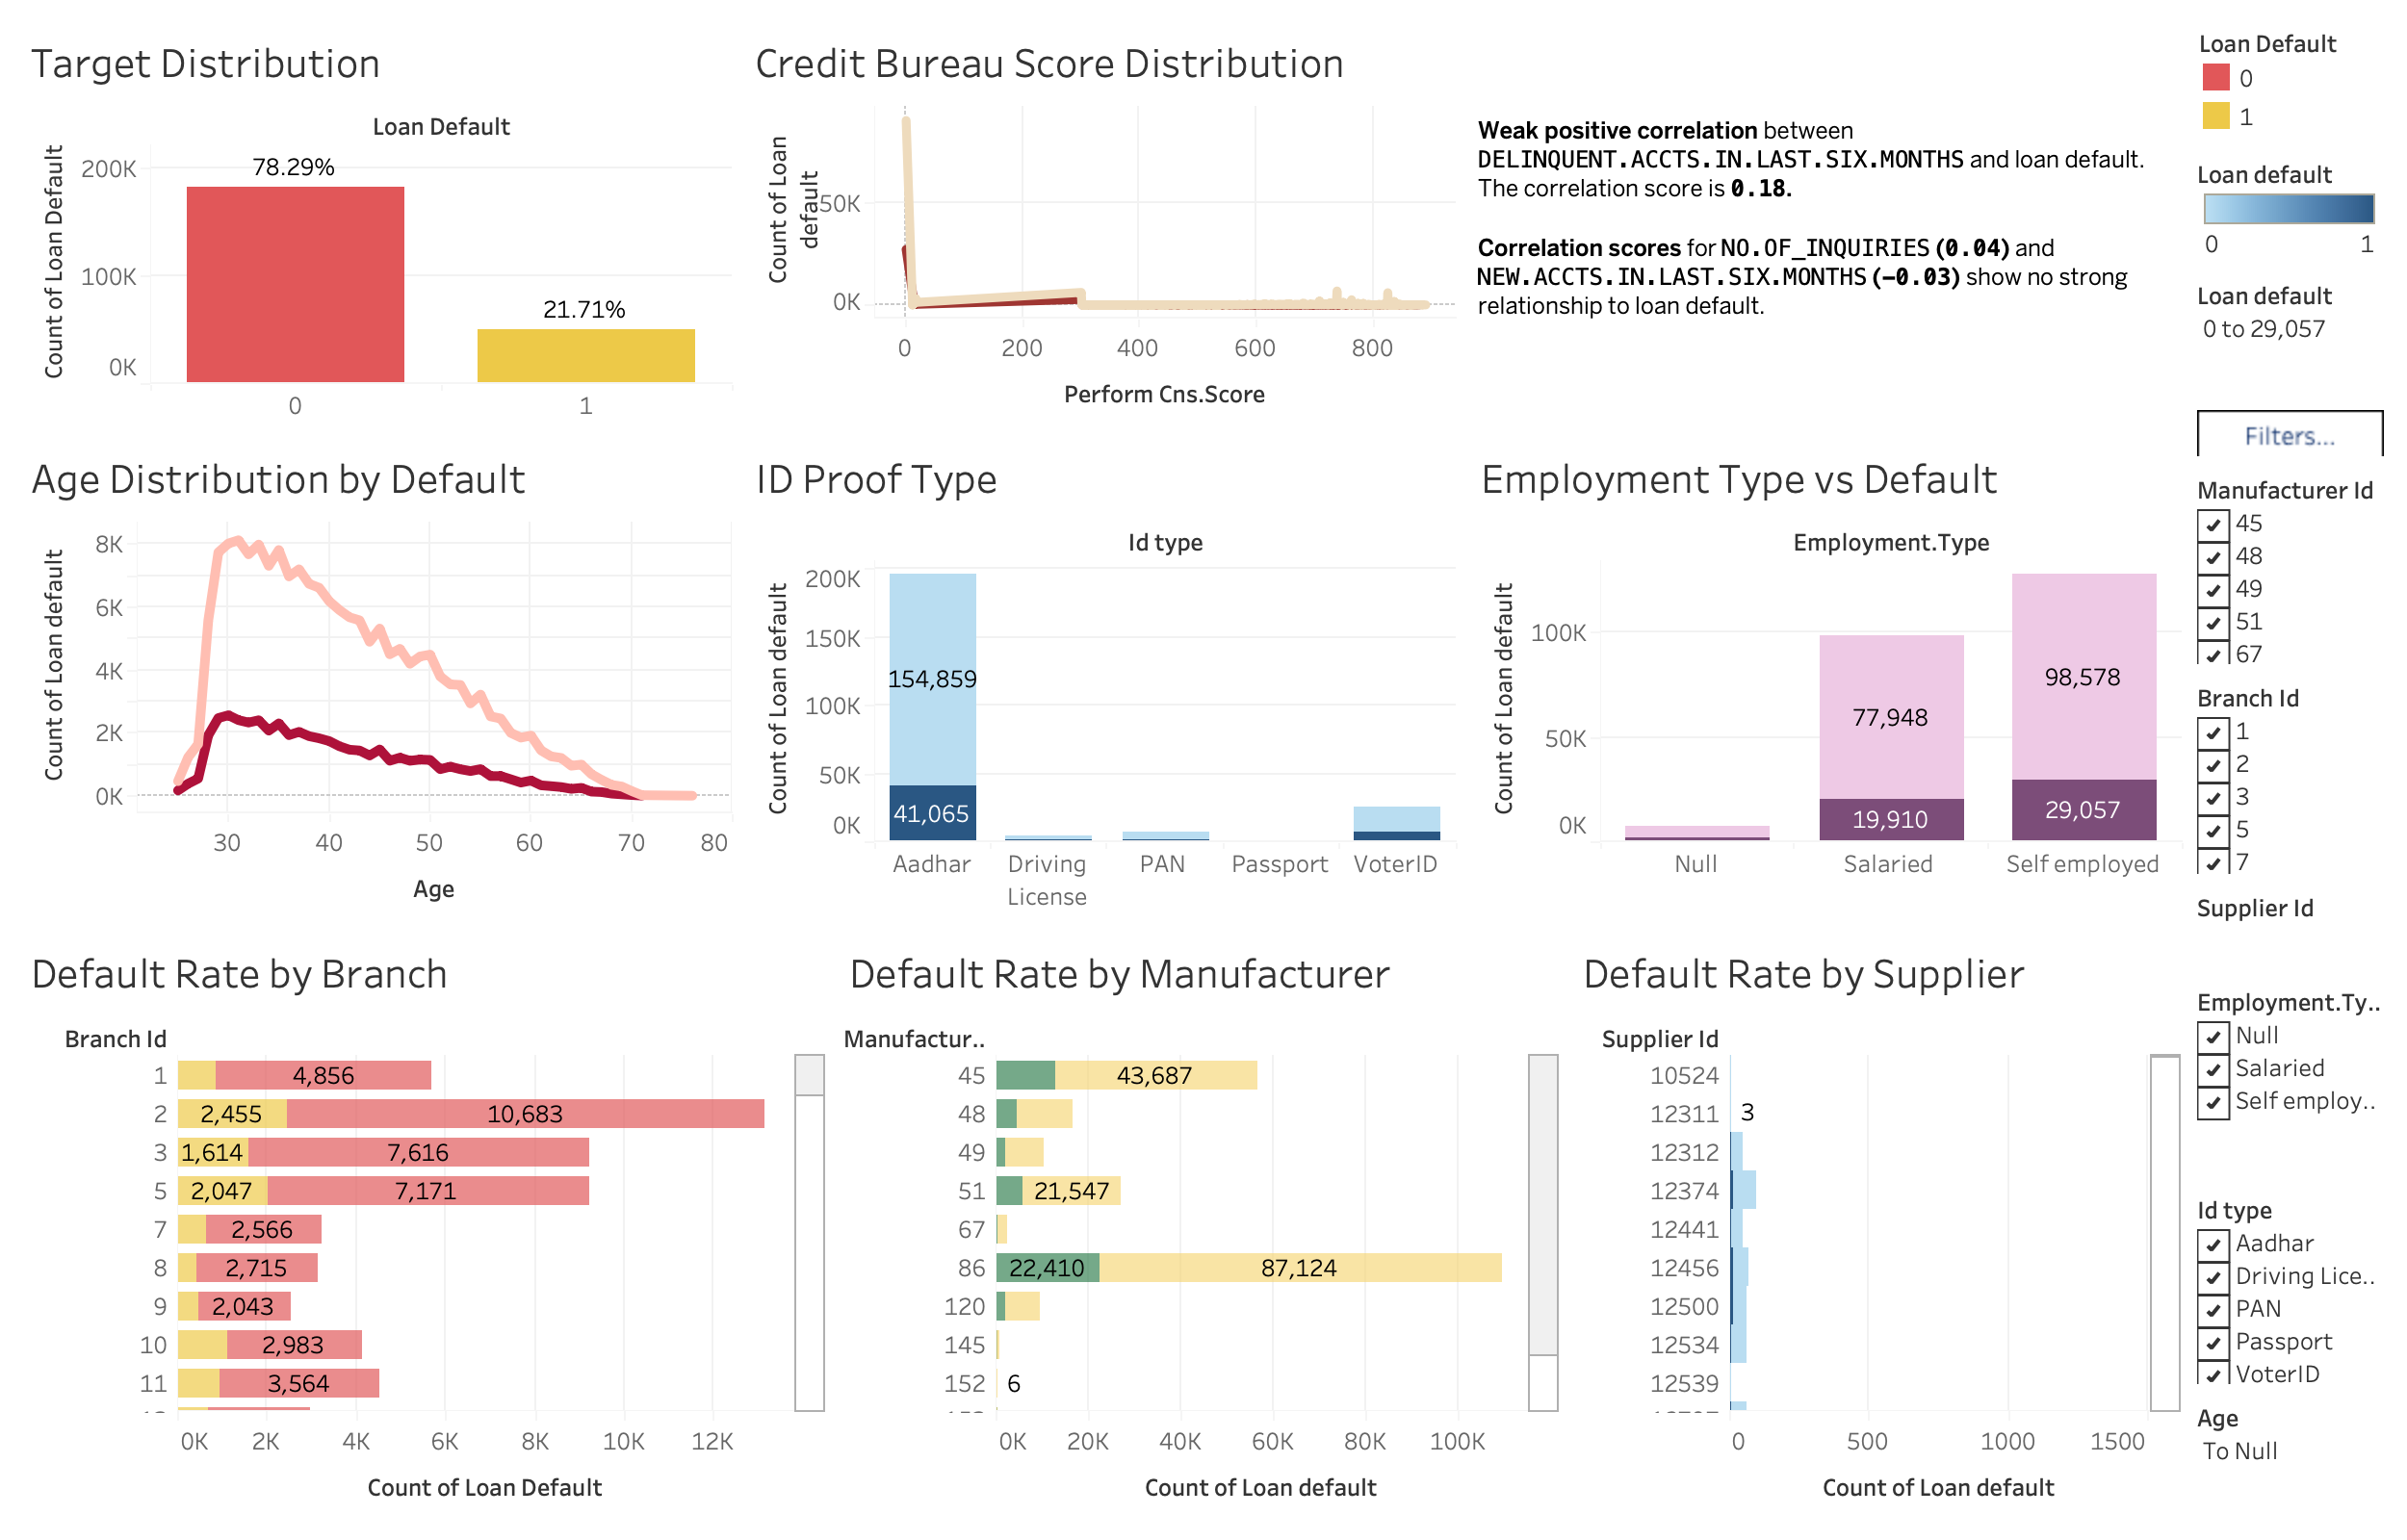

Layout of this report page (visuals, bound fields, positions):
{"tool":"tableau","page":{"name":"The Executive Summary ","canvas":[1250,800],"ordinal":1},"visuals":[{"type":"worksheet","title":"Target Distribution","mark":"Automatic","rows":["loan_default"],"cols":["loan_default"],"box":[8,8,376.3,216]},{"type":"worksheet","title":"Credit Bureau Score Distribution","mark":"Line","rows":["Calculation_3412602662523293697"],"cols":["PERFORM_CNS.SCORE"],"box":[384.3,8,376.4,216]},{"type":"text","box":[760.6,8,376.4,216]},{"type":"legend","title":"Target Distribution","param":"[federated.1ljrgf00581if515bjikj00tv5dx].[none:loan_default:ok]","box":[1137,8,105,66]},{"type":"legend","title":"Default Rate by Supplier","param":"[federated.1ljrgf00581if515bjikj00tv5dx].[none:Calculation_3412602662523293697:q","box":[1137,74,105,65]},{"type":"filter","title":"Employment Type vs Default","param":"[federated.1ljrgf00581if515bjikj00tv5dx].[sum:Calculation_3412602662523293697:qk","box":[1137,139,105,69]},{"type":"dashboard-object","param":"[com.tableau.addfilters].[0.0.0].[https://extensions.tableauusercontent.com/sand","box":[1137,208,105,32]},{"type":"worksheet","title":"Age Distribution by Default","mark":"Automatic","rows":["Calculation_3412602662523293697"],"cols":["Calculation_3412602662530355202"],"box":[8,224,376.3,257]},{"type":"worksheet","title":"ID Proof Type","mark":"Automatic","rows":["Calculation_3412602662523293697"],"cols":["Calculation_3412602662531616771"],"box":[384.3,224,376.4,257]},{"type":"worksheet","title":"Employment Type vs Default","mark":"Automatic","rows":["Calculation_3412602662523293697"],"cols":["Employment.Type"],"box":[760.6,224,376.4,257]},{"type":"filter","title":"Default Rate by Manufacturer","param":"[federated.1ljrgf00581if515bjikj00tv5dx].[none:manufacturer_id:ok]","box":[1137,240,105,108.7]},{"type":"filter","title":"Default Rate by Branch","param":"[federated.1ljrgf00581if515bjikj00tv5dx].[none:branch_id:ok]","box":[1137,348.7,105,108.7]},{"type":"filter","title":"Default Rate by Supplier","param":"[federated.1ljrgf00581if515bjikj00tv5dx].[none:supplier_id:ok]","box":[1137,457.3,105,49]},{"type":"worksheet","title":"Default Rate by Branch","mark":"Bar","rows":["branch_id"],"cols":["loan_default"],"box":[8,481,425,311]},{"type":"worksheet","title":"Default Rate by Manufacturer","mark":"Automatic","rows":["manufacturer_id"],"cols":["Calculation_3412602662523293697"],"box":[433,481,381,311]},{"type":"worksheet","title":"Default Rate by Supplier","mark":"Automatic","rows":["supplier_id"],"cols":["Calculation_3412602662523293697"],"box":[814,481,323,311]},{"type":"filter","title":"Employment Type vs Default","param":"[federated.1ljrgf00581if515bjikj00tv5dx].[none:Employment.Type:nk]","box":[1137,506.3,105,108]},{"type":"filter","title":"ID Proof Type","param":"[federated.1ljrgf00581if515bjikj00tv5dx].[none:Calculation_3412602662531616771:n","box":[1137,614.3,105,108.7]},{"type":"filter","title":"Age Distribution by Default","param":"[federated.1ljrgf00581if515bjikj00tv5dx].[none:Calculation_3412602662530355202:q","box":[1137,723,105,69]}]}

Visuals, with their boxes in screenshot pixels (x1, y1, x2, y2), scaled from the page's 1250x800 canvas onto the 2407x1540 screenshot:
"Target Distribution" worksheet: locate(15, 15, 740, 431)
"Credit Bureau Score Distribution" worksheet (Line marks): locate(740, 15, 1464, 431)
text: locate(1464, 15, 2189, 431)
"Target Distribution" legend: locate(2189, 15, 2392, 142)
"Default Rate by Supplier" legend: locate(2189, 142, 2392, 268)
"Employment Type vs Default" filter: locate(2189, 268, 2392, 400)
dashboard-object: locate(2189, 400, 2392, 462)
"Age Distribution by Default" worksheet: locate(15, 431, 740, 926)
"ID Proof Type" worksheet: locate(740, 431, 1464, 926)
"Employment Type vs Default" worksheet: locate(1464, 431, 2189, 926)
"Default Rate by Manufacturer" filter: locate(2189, 462, 2392, 671)
"Default Rate by Branch" filter: locate(2189, 671, 2392, 881)
"Default Rate by Supplier" filter: locate(2189, 881, 2392, 975)
"Default Rate by Branch" worksheet (Bar marks): locate(15, 926, 834, 1525)
"Default Rate by Manufacturer" worksheet: locate(834, 926, 1567, 1525)
"Default Rate by Supplier" worksheet: locate(1567, 926, 2189, 1525)
"Employment Type vs Default" filter: locate(2189, 975, 2392, 1183)
"ID Proof Type" filter: locate(2189, 1183, 2392, 1392)
"Age Distribution by Default" filter: locate(2189, 1392, 2392, 1525)
